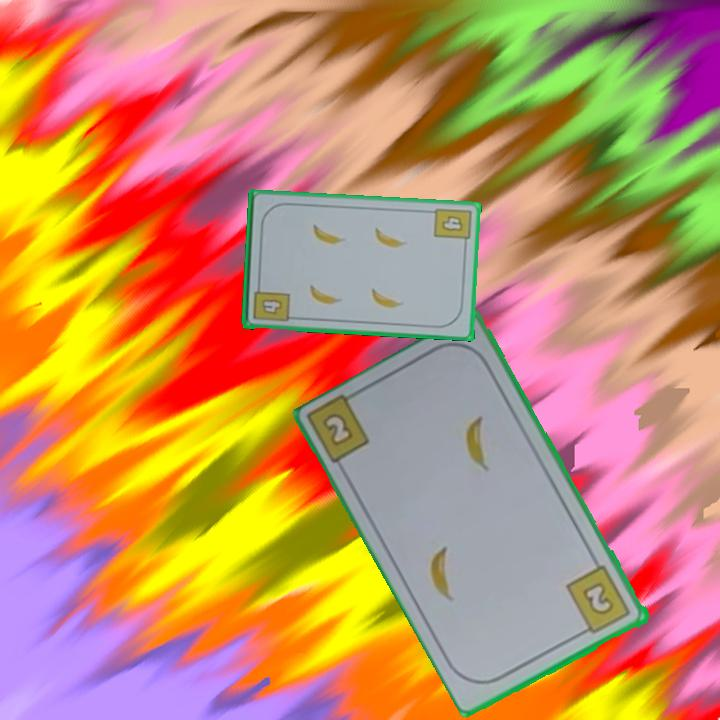2b: (563, 562, 634, 638), (319, 409, 357, 450)
4b: (430, 204, 474, 249), (250, 279, 292, 324)
